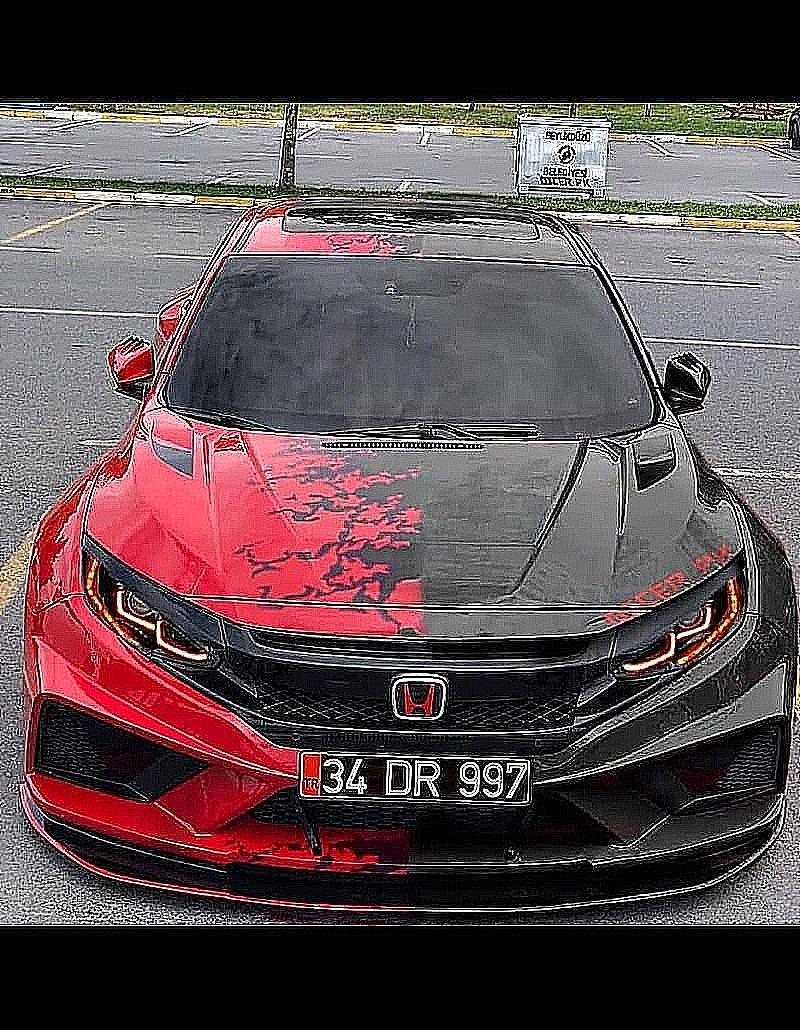Car hood: (74, 394, 752, 644)
Front bumper: (19, 602, 800, 916)
Headlight - -L-: (599, 552, 757, 701)
Headlight - -R-: (75, 549, 273, 712)
Side mirror - -L-: (650, 344, 734, 424)
Side mirror - -R-: (92, 329, 178, 401)
